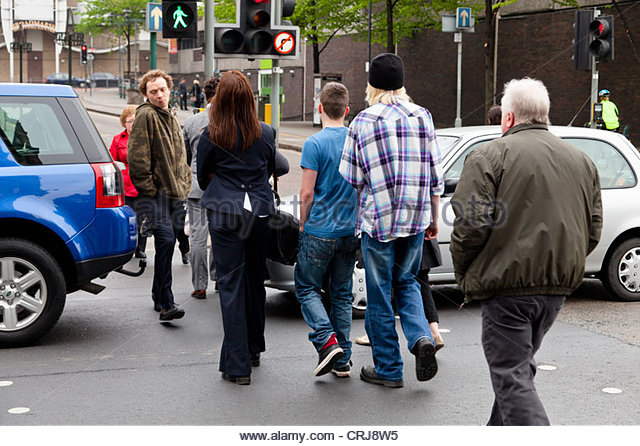pedestrian: (450, 69, 609, 427), (339, 53, 445, 392), (191, 66, 281, 385), (286, 77, 364, 387), (124, 64, 194, 322)
